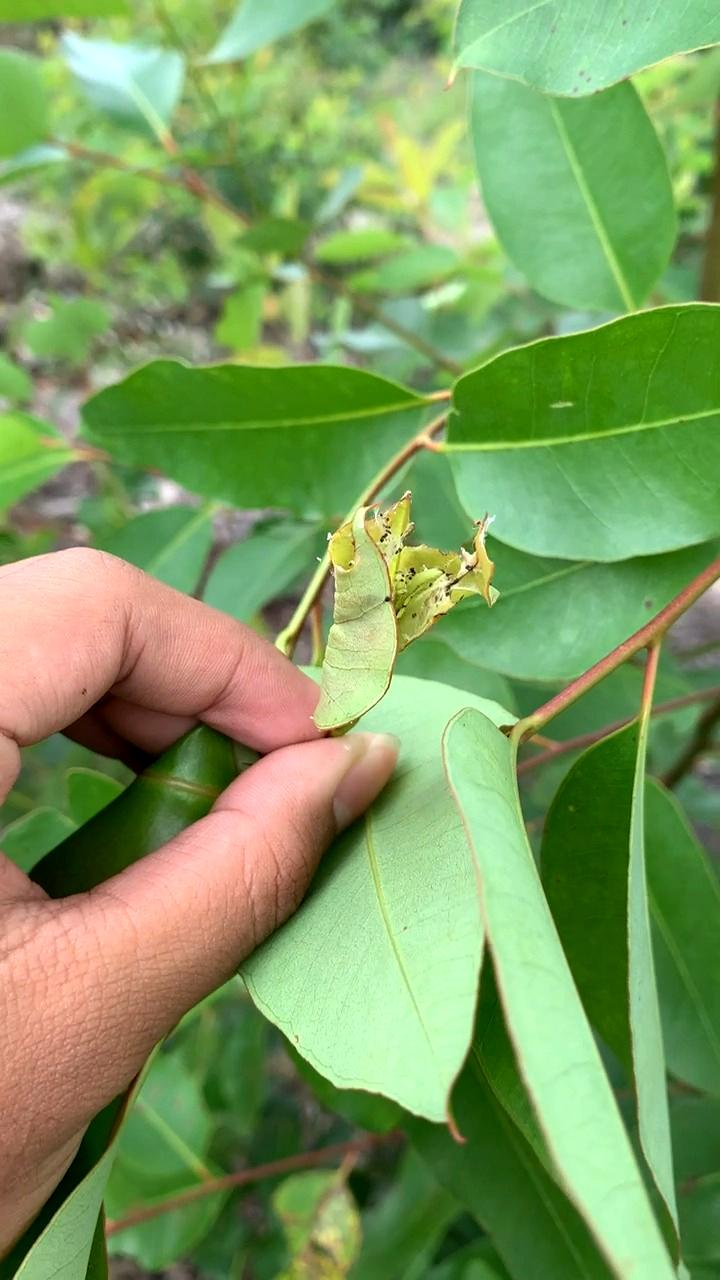Leaf Roller - Leaf: (305, 491, 497, 723)
